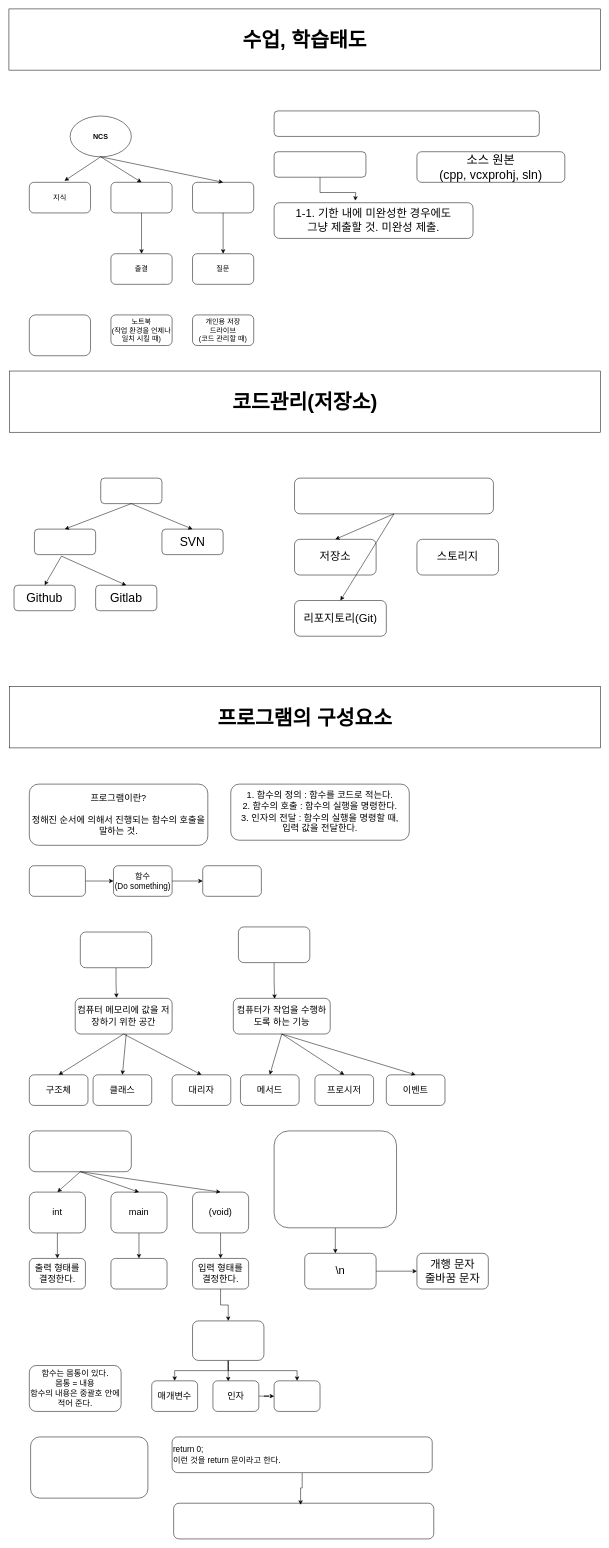
This 609x1548 diagram has some shape labels left out. The box of each missing label's shape, as (x1, y1, x2, y2) in pixels:
1. 기간 엄수: (274, 151, 366, 177)
Git: (34, 529, 96, 555)
return은 1.함수의 종료와 2.값의 전달(반환) 이라는 두 가지 의미를 지닌다.: (173, 1503, 434, 1539)
Serve version: (100, 478, 162, 504)
과제 제출 가이드: (274, 110, 539, 136)
메모지,펜, 태블릿 pc (그냥 항상 뭔가 적을 것이 생김): (29, 314, 91, 356)
변수: (80, 932, 152, 968)
습관: (110, 182, 172, 213)
인수: (274, 1380, 320, 1411)
입력 (Input): (29, 865, 85, 896)
입력 값을 부르는 여러가지 용어: (192, 1320, 264, 1360)
저장소를 부르는 여러 용어: (294, 478, 493, 514)
즉, 메인 함수는 int main (void) { // 여기에 함수의 내용이 들어감. }: (30, 1436, 148, 1498)
출력(Output): (202, 865, 261, 896)
태도: (192, 182, 254, 213)
특수문자 중에서 (\)와 조합해서 쓰는 특수문자를 이스케이프 시퀸스라고 한다.: (274, 1130, 397, 1228)
함수: (238, 926, 310, 963)
함수 이름: (110, 1258, 167, 1289)
함수는 이렇게 생겼다. int main (void): (29, 1130, 131, 1172)
